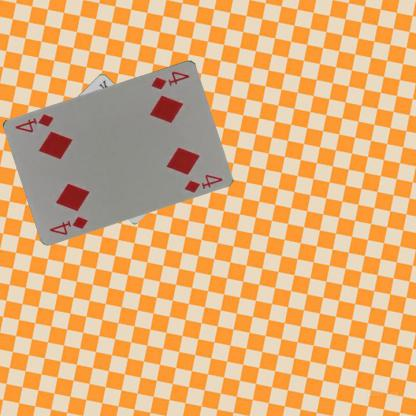4d: (148, 68, 192, 91), (46, 214, 90, 236)
